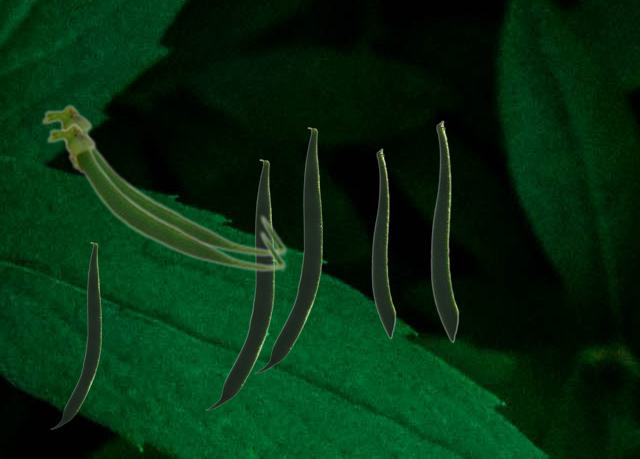french_bean: (40, 102, 287, 257), (45, 121, 286, 272), (205, 159, 273, 409), (254, 127, 321, 372), (50, 242, 100, 428), (430, 120, 458, 342), (371, 148, 395, 338)
